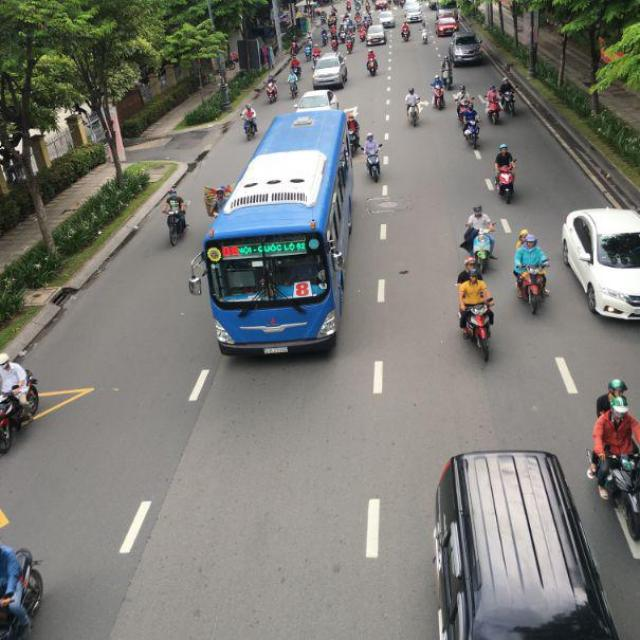bus: (198, 111, 351, 358)
car: (563, 209, 640, 325), (312, 54, 350, 90), (452, 34, 485, 69), (437, 16, 458, 37), (367, 26, 386, 44), (378, 12, 395, 28), (401, 24, 411, 42)
motorcycle: (459, 298, 493, 364), (521, 268, 550, 315), (491, 164, 519, 200), (166, 210, 186, 247), (404, 100, 423, 130), (367, 154, 381, 182), (242, 118, 258, 140), (266, 80, 280, 104), (367, 50, 379, 76)
